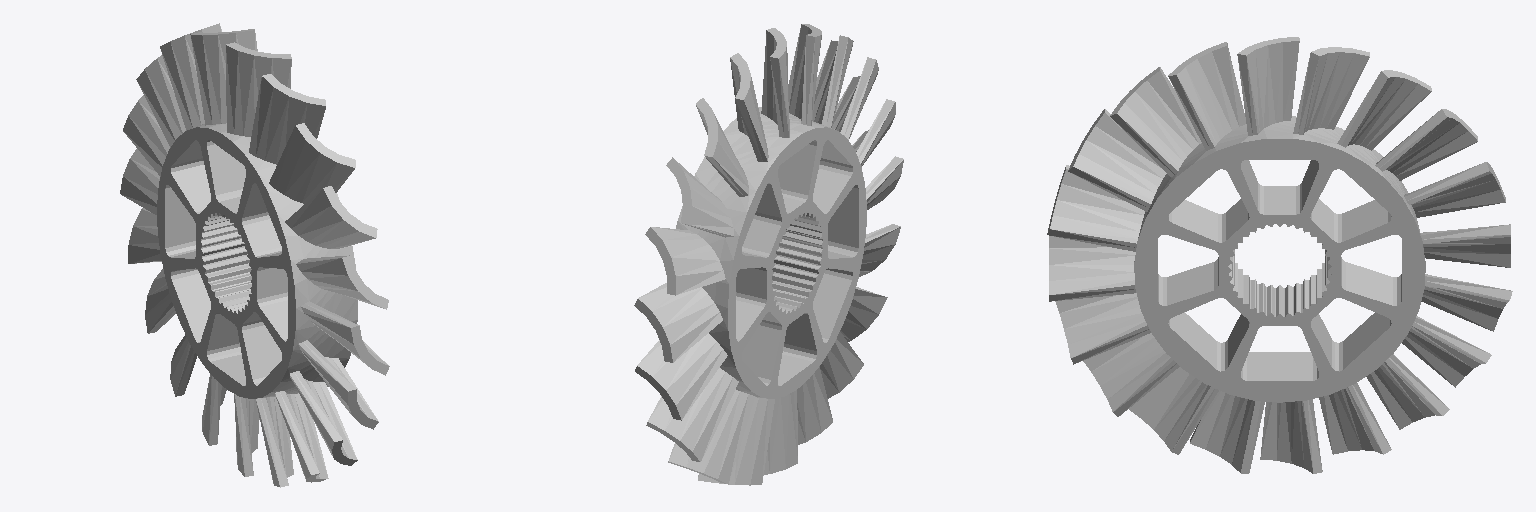
The model's file is Kompressor 1.obj.
The picture shows the model from 3 angles: view 1: azimuth 30°, elevation 25°; view 2: azimuth 150°, elevation 25°; view 3: azimuth 270°, elevation 25°; orthographic projection.
Visible parts, largest first — view 1: Компрессор_№01; view 2: Компрессор_№01; view 3: Компрессор_№01.
Part boxes in pixels (x1,y1,x2,y2): Компрессор_№01: (120,23,389,487); Компрессор_№01: (634,24,903,485); Компрессор_№01: (1047,37,1512,473).
Size of the model in its own units: 10 by 68.56 by 68.56.